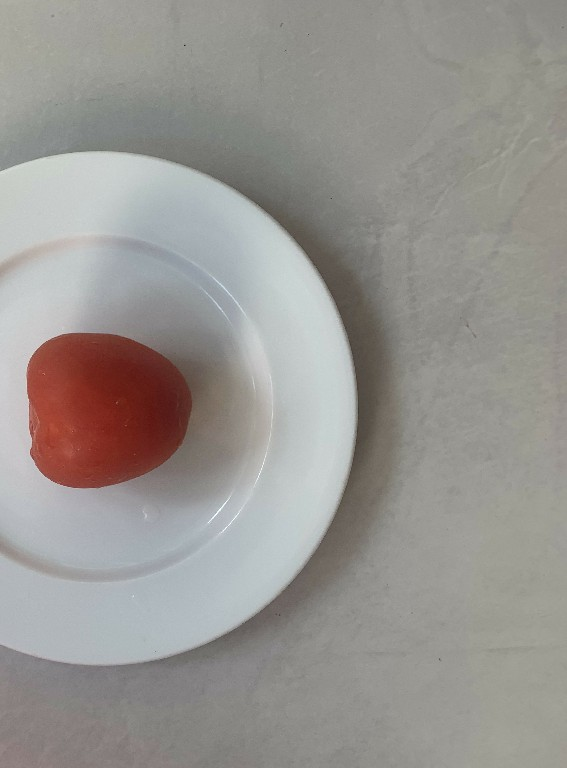OK: (19, 327, 195, 496)
